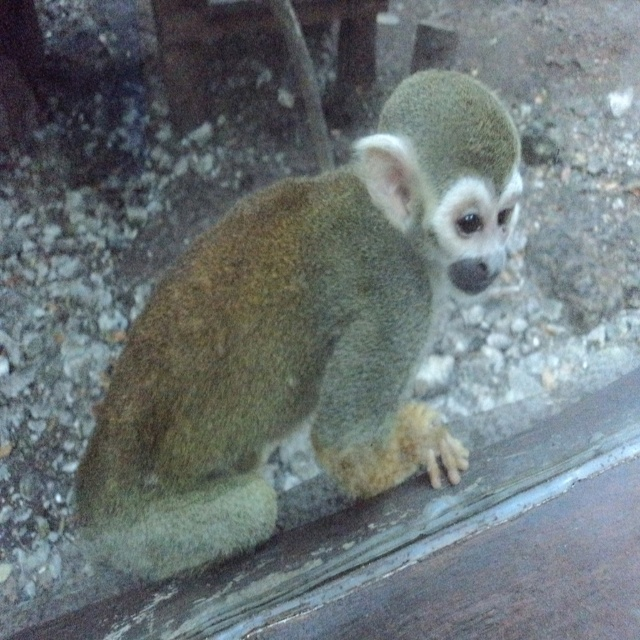Monkey: (66, 67, 525, 589)
